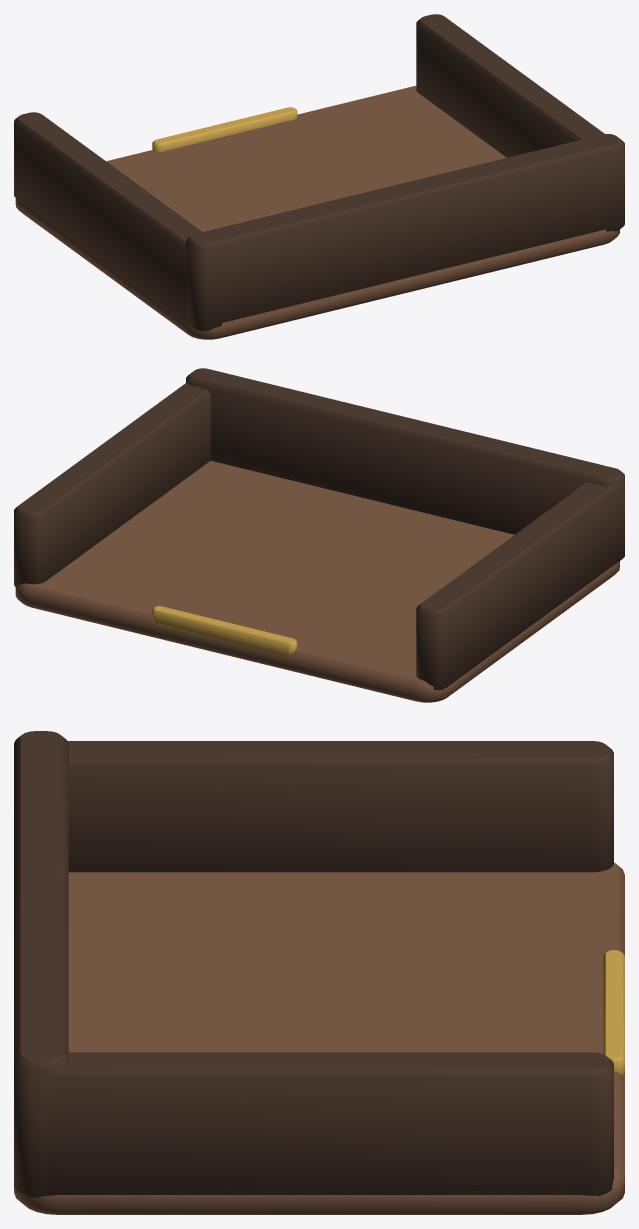
File: Doc_InboxTray_Optimized.fbx
3 renders of one model, top to bottom at view 1: azimuth 30°, elevation 25°; view 2: azimuth 150°, elevation 25°; view 3: azimuth 270°, elevation 25°, orthographic. The views are drawn at different scales.
Visible parts, largest first — view 1: InboxOpt_TrayWood, InboxOpt_WarmWood, InboxOpt_Brass; view 2: InboxOpt_TrayWood, InboxOpt_WarmWood, InboxOpt_Brass; view 3: InboxOpt_TrayWood, InboxOpt_WarmWood, InboxOpt_Brass.
Boxes of the visible parts, x1=… form: InboxOpt_TrayWood: x1=14, y1=14, x2=624, y2=331; InboxOpt_WarmWood: x1=15, y1=85, x2=619, y2=339; InboxOpt_Brass: x1=152, y1=107, x2=297, y2=151; InboxOpt_TrayWood: x1=14, y1=368, x2=624, y2=690; InboxOpt_WarmWood: x1=15, y1=460, x2=619, y2=702; InboxOpt_Brass: x1=152, y1=606, x2=297, y2=656; InboxOpt_TrayWood: x1=14, y1=731, x2=613, y2=1198; InboxOpt_WarmWood: x1=14, y1=862, x2=624, y2=1214; InboxOpt_Brass: x1=603, y1=950, x2=624, y2=1075.
Size of the model in its own units: 14.5 by 3.15 by 11.2.
